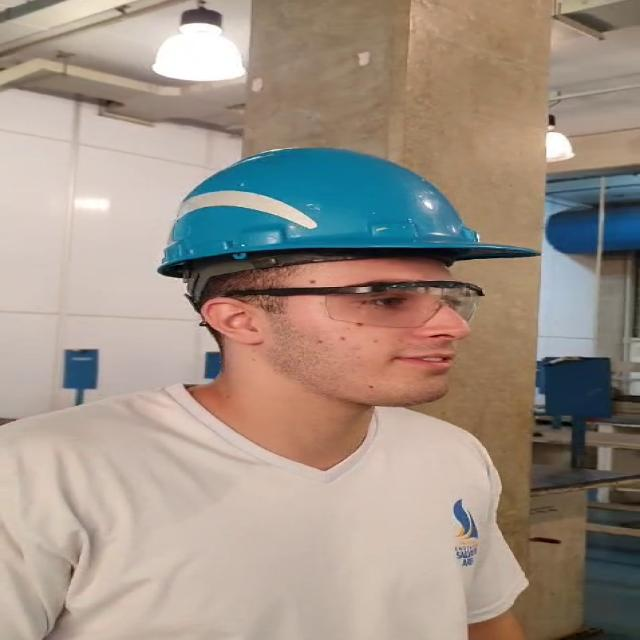oculos-epi: (229, 280, 483, 328)
